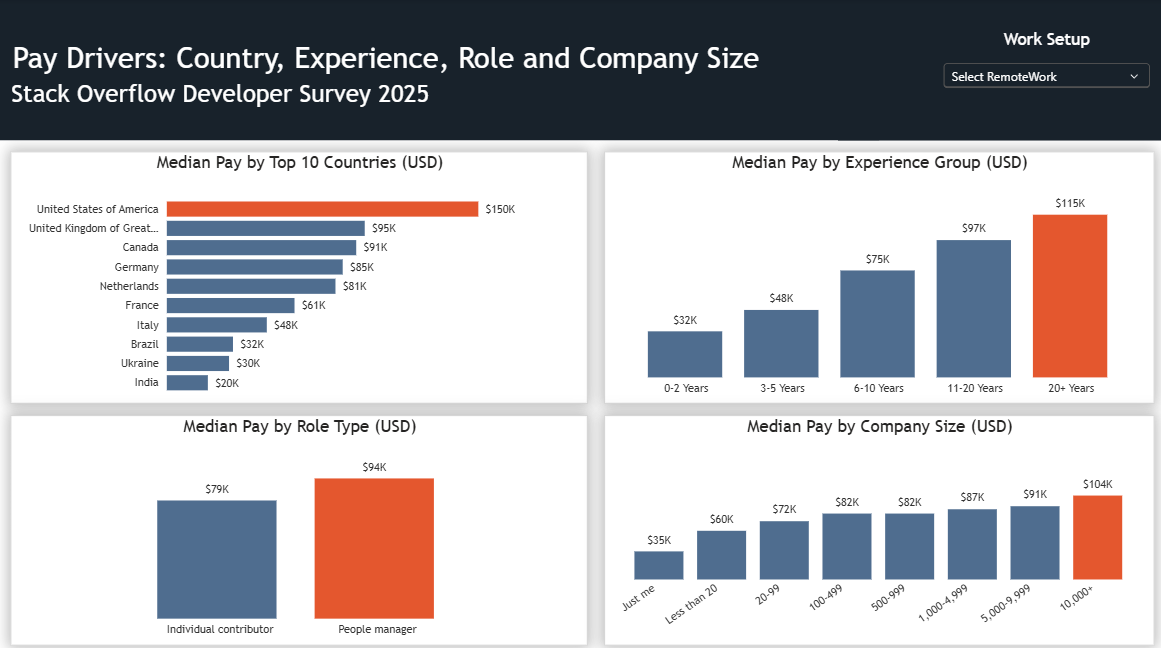

This screenshot's page, from the dashboard's own definition file:
{"tool":"powerbi","page":{"name":"Pay Drivers","canvas":[1280,720],"ordinal":1},"visuals":[{"type":"clusteredBarChart","title":"Median Pay by Top 10 Countries (USD)","fields":{"Category":["so_survey_2025_clean.Country"],"Y":["Measures Table.Median Pay"]},"box":[13.7,167.4,634,277.2],"z":0},{"type":"clusteredColumnChart","title":"Median Pay by Experience Group (USD)","fields":{"Category":["so_survey_2025_clean.WorkExp Brackets"],"Y":["Measures Table.Median Pay"]},"box":[665.5,167.4,603.8,277.2],"z":1000},{"type":"clusteredColumnChart","title":"Median Pay by Role Type (USD)","fields":{"Category":["so_survey_2025_clean.ICorPM"],"Y":["Measures Table.Median Pay"]},"box":[13.7,456.9,634,252.5],"z":2000},{"type":"clusteredColumnChart","title":"Median Pay by Company Size (USD)","fields":{"Category":["so_survey_2025_clean.OrgSize"],"Y":["Measures Table.Median Pay"]},"box":[665.5,456.9,603.8,252.5],"z":3000},{"type":"shape","box":[0,0,967.4,155.1],"z":4000},{"type":"shape","box":[922.1,0,358.1,155.1],"z":5000},{"type":"textbox","box":[0,0,854.9,155.1],"z":6000},{"type":"listSlicer","title":"Work Setup","fields":{"Values":["so_survey_2025_clean.RemoteWork"]},"box":[1033.3,32.9,236,90.6],"z":7000}]}

Visuals, with their boxes in screenshot pixels (x1, y1, x2, y2), scaled from the page's 1280x720 canvas onto the 1161x648 screenshot:
"Median Pay by Top 10 Countries (USD)" clusteredBarChart: l=12, t=151, r=587, b=400
"Median Pay by Experience Group (USD)" clusteredColumnChart: l=604, t=151, r=1151, b=400
"Median Pay by Role Type (USD)" clusteredColumnChart: l=12, t=411, r=587, b=638
"Median Pay by Company Size (USD)" clusteredColumnChart: l=604, t=411, r=1151, b=638
shape: l=0, t=0, r=877, b=140
shape: l=836, t=0, r=1160, b=140
textbox: l=0, t=0, r=775, b=140
"Work Setup" listSlicer: l=937, t=30, r=1151, b=111
